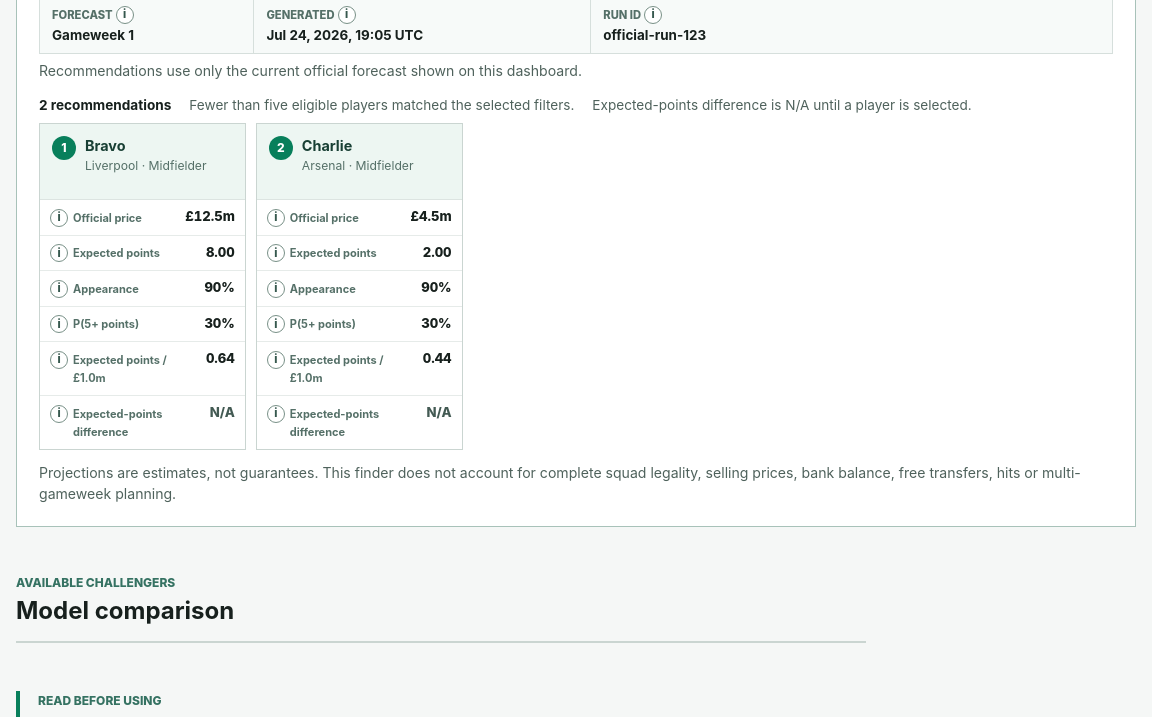
Test: dashboard interactions › explains every Player Finder recommendation metric
(page scrolled)
expect the element "Bravo" is shown: met, box [39,123,246,450]
expect the button named "More information about Expected points" is shown: met, box [50,244,68,262]
Click the button named "More information about Expected points / £1.0m".
click(59, 360)  # box [50,351,68,369]
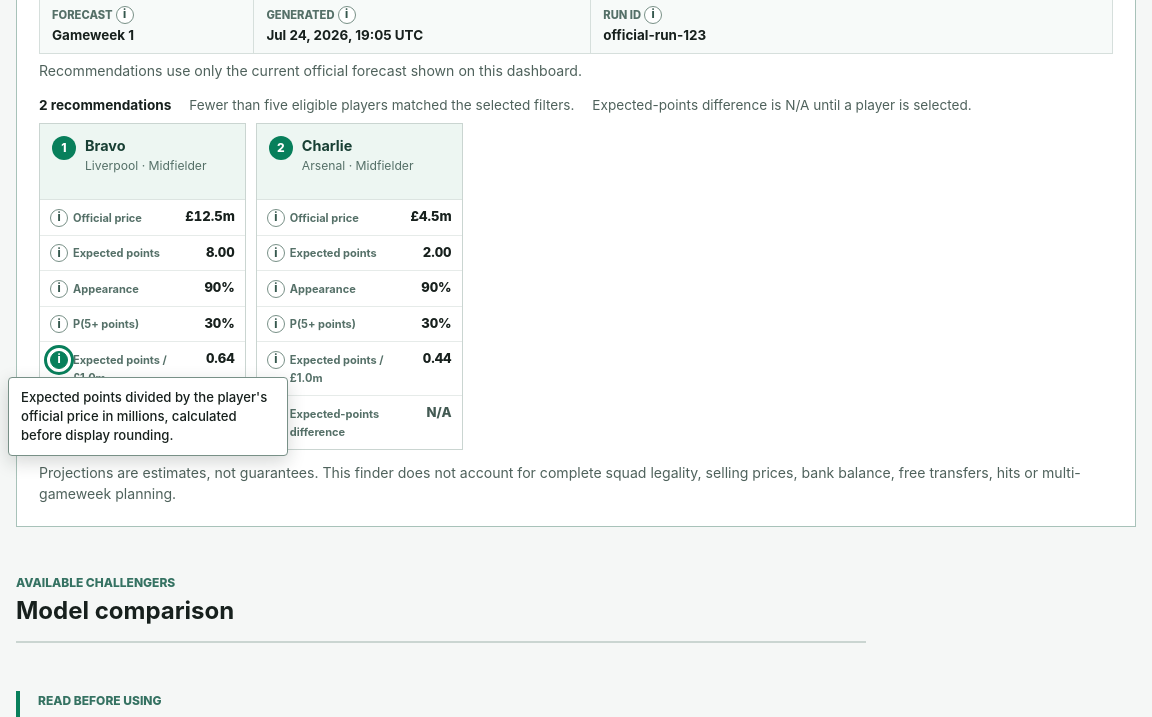
expect the tooltip shows "calculated before display rounding": met, box [21,389,267,443]
